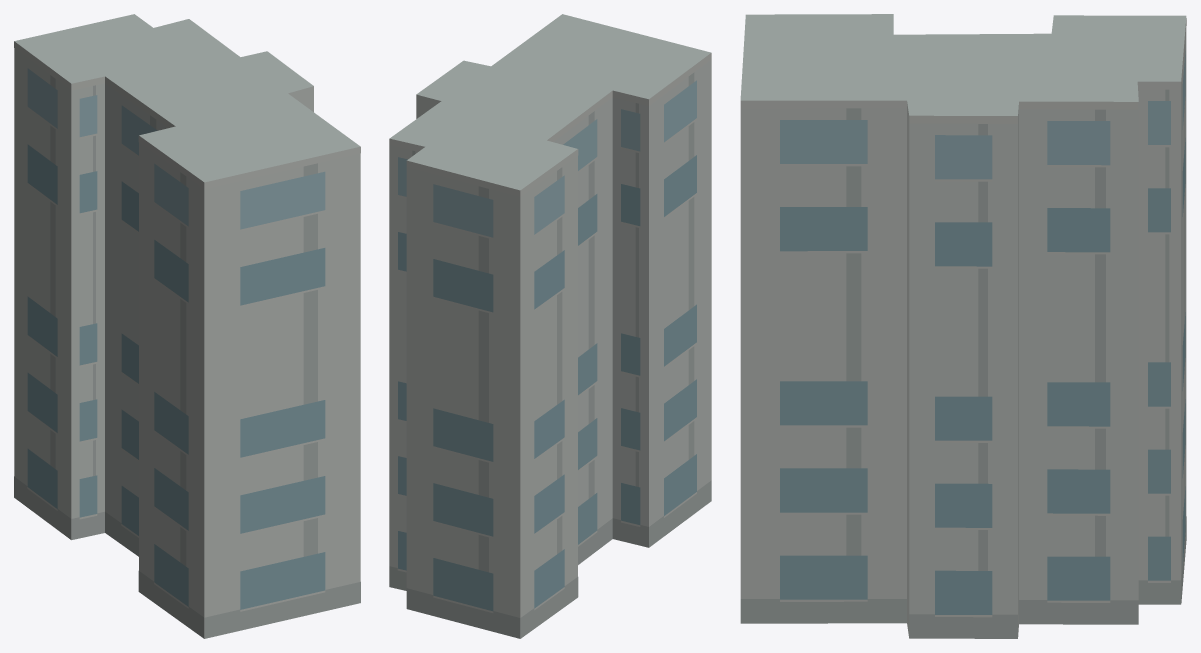
File: survey-upis-32981322.glb
3 views of the same model, side by side, from view 1: azimuth 30°, elevation 25°; view 2: azimuth 150°, elevation 25°; view 3: azimuth 270°, elevation 25° (orthographic). The views are drawn at different scales.
Parts seen in each view (by area): view 1: survey-upis-32981322.tmp; view 2: survey-upis-32981322.tmp; view 3: survey-upis-32981322.tmp.
Boxes of the visible parts, x1,y1,x2,y2 form: survey-upis-32981322.tmp: (14, 14, 360, 638); survey-upis-32981322.tmp: (389, 14, 711, 638); survey-upis-32981322.tmp: (740, 14, 1186, 638).
Bounding box in the file's own units: 6.8 × 16.2 × 12.54.
